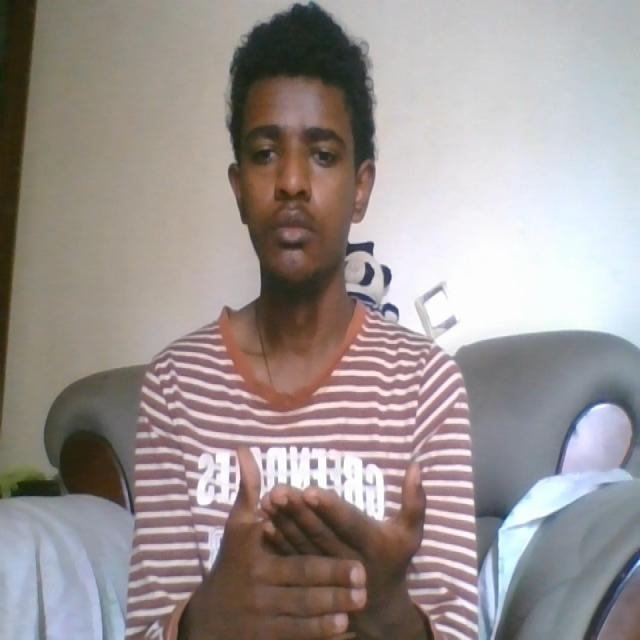sga: (220, 453, 427, 640)
